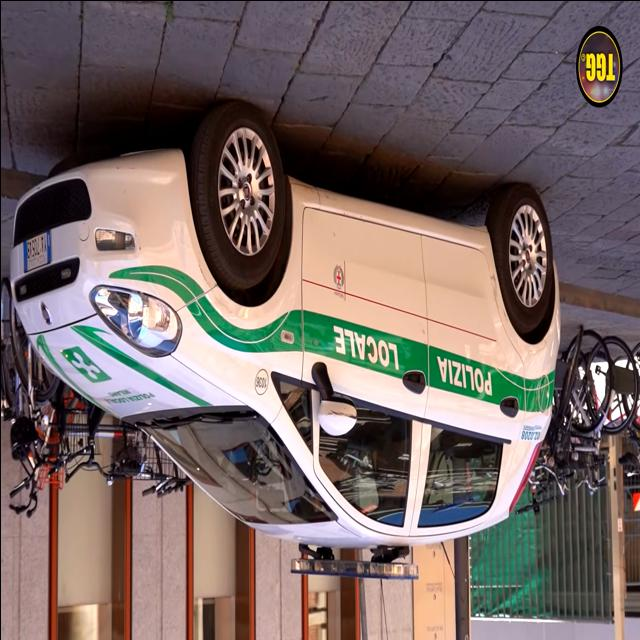emergency-vehicles: (0, 100, 575, 577)
